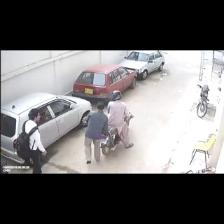person: (108, 91, 133, 148), (85, 102, 108, 163), (30, 130, 46, 173)
